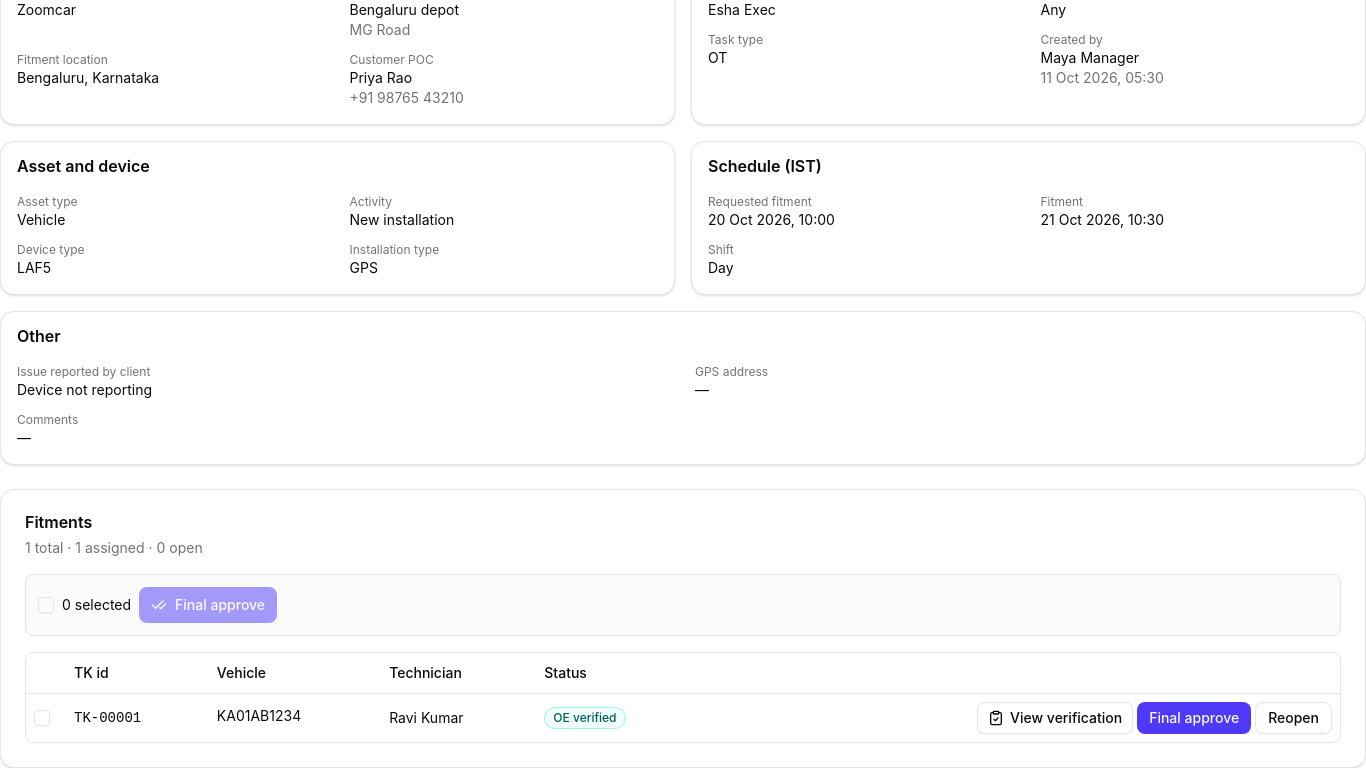
Test: fitment actions (F05) › shows a refusal from the server verbatim
This screenshot has width=1366, height=768.
(page scrolled)
Click the button with aria-label "Final approve TK-00001": click(1194, 718) x1=1137 y1=702 x2=1251 y2=734
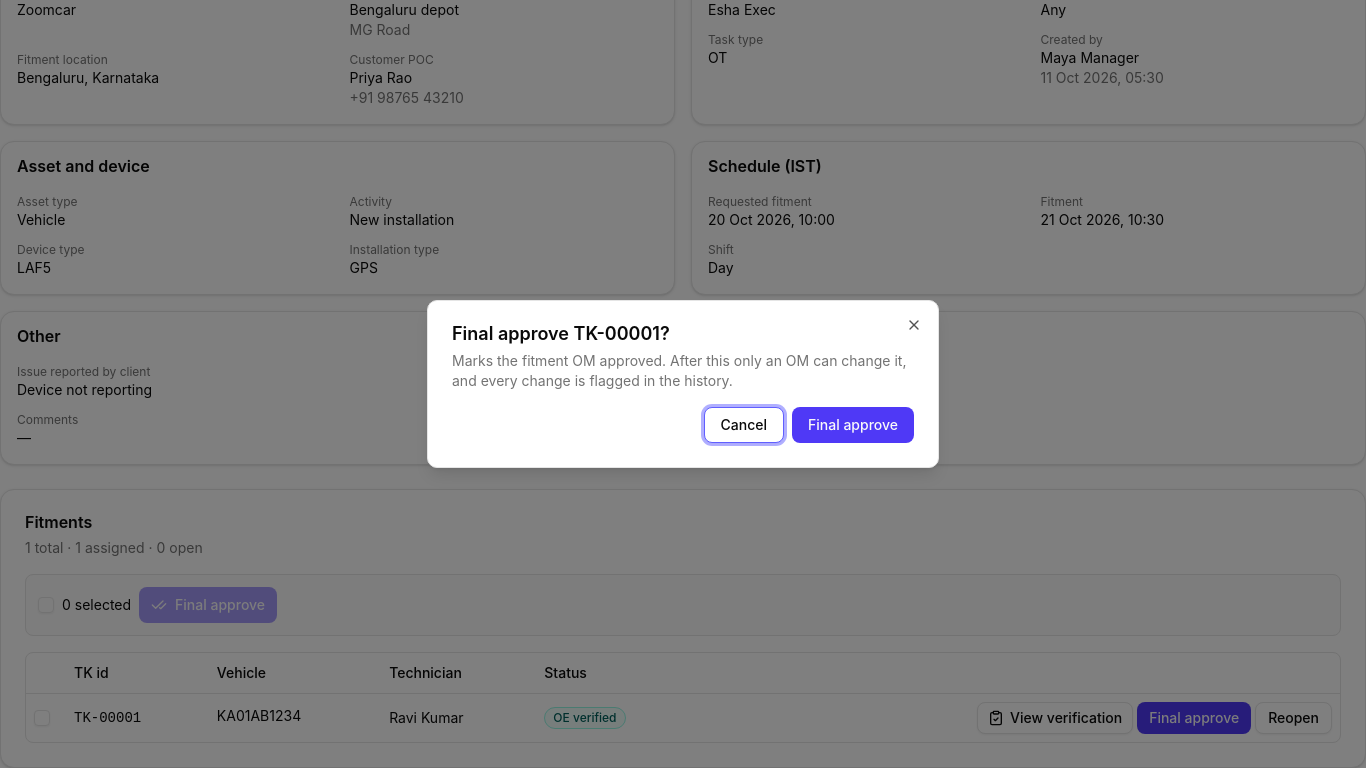
Click the button "Final approve": click(853, 425) x1=792 y1=407 x2=914 y2=443
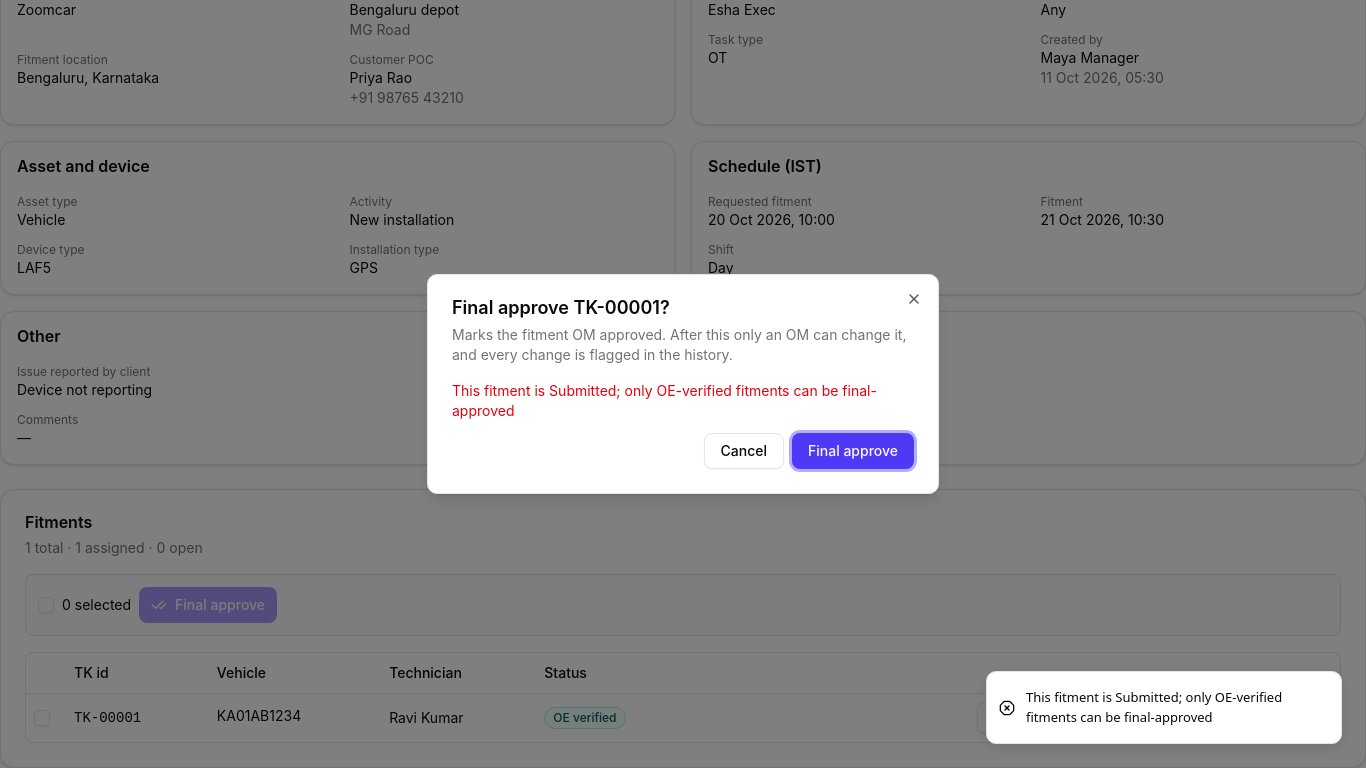
Expected: the message reads "This fitment is Submitted; only OE-verified fitments can be final-approved", x1=452 y1=382 x2=877 y2=419
